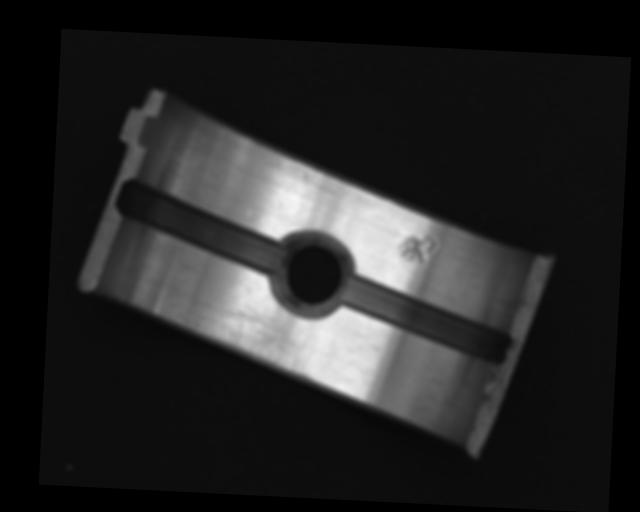bruise: (396, 233, 441, 268)
gap: (112, 177, 292, 275), (341, 275, 515, 363)
hole: (269, 231, 356, 319)
scratch: (169, 308, 326, 384)
